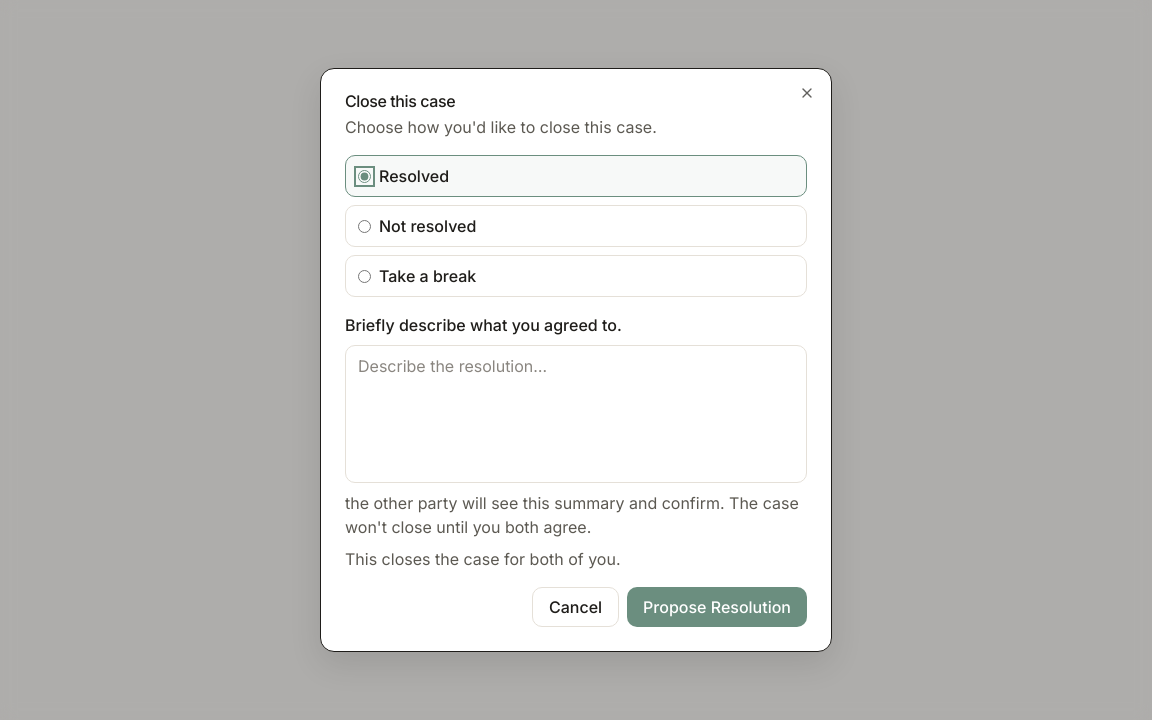
WOR-53: CaseClosureModal › AC: Not resolved option triggers unilateral close › shows warning styling when Not resolved is selected
Click the text "Not resolved": (428, 226) [379, 214, 476, 238]
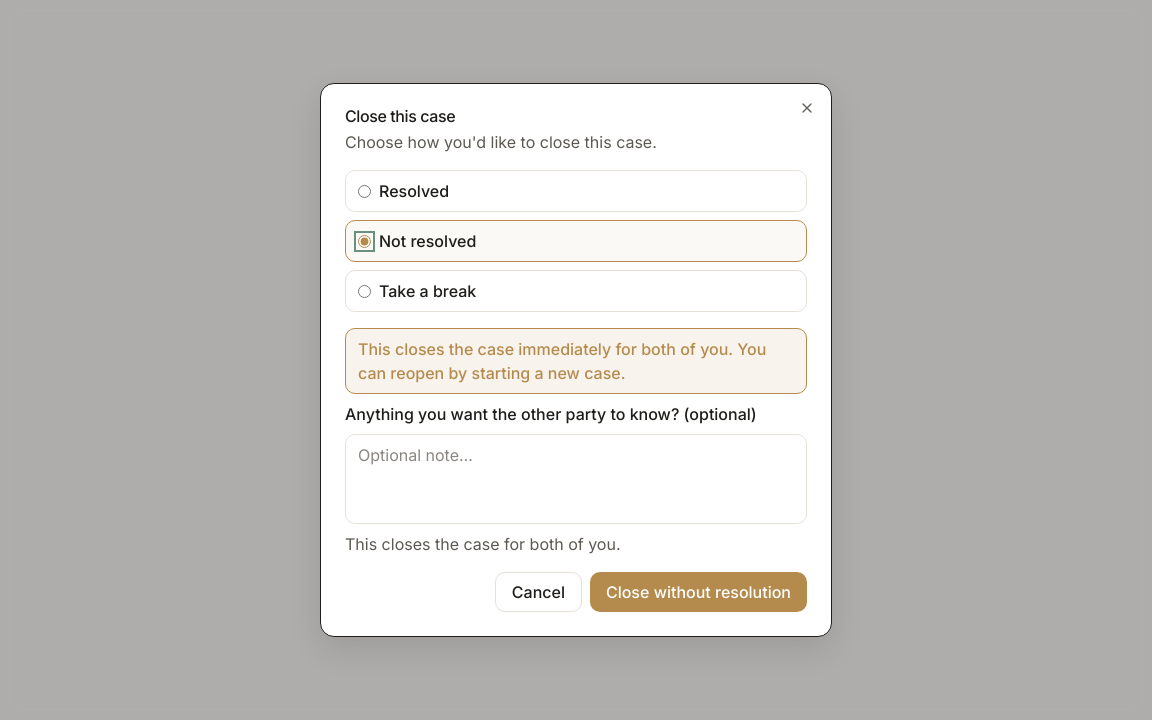
Expected: the text "closes the case immediately for both of you" is shown, [358, 339, 766, 383]
